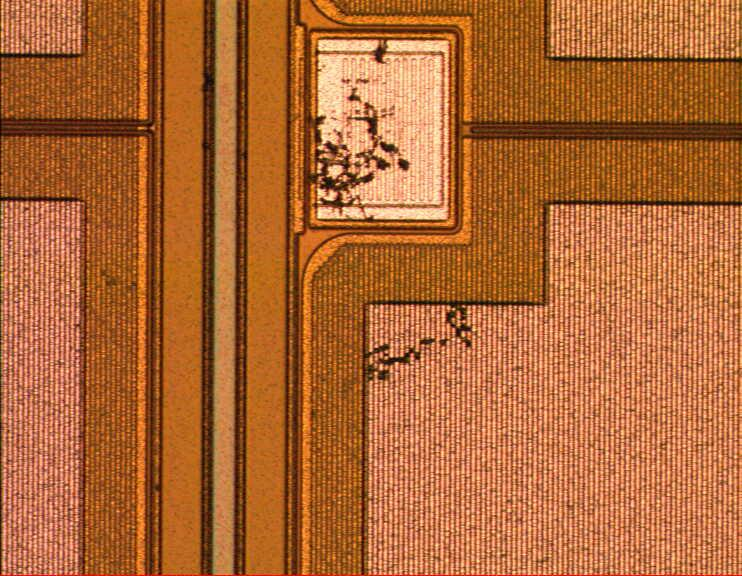SCRATCH: (301, 25, 491, 387)
